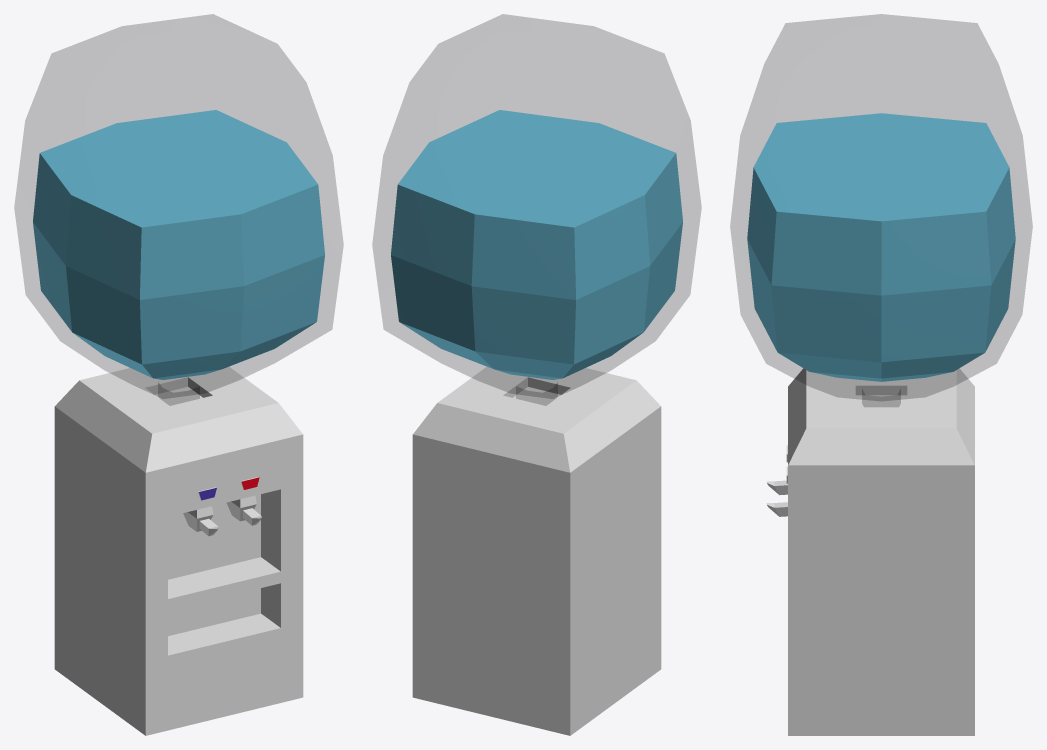
The model's file is AG_Bebedero.fbx.
3 views of the same model, side by side, from view 1: azimuth 30°, elevation 25°; view 2: azimuth 150°, elevation 25°; view 3: azimuth 270°, elevation 25° (orthographic). The views are drawn at different scales.
Visible parts, largest first — view 1: Bebedero; view 2: Bebedero; view 3: Bebedero.
Part boxes in pixels (box(x1,y1,x2,y2)): Bebedero: box(14, 14, 343, 735); Bebedero: box(372, 14, 701, 735); Bebedero: box(730, 14, 1032, 735).
Bounding box in the file's own units: 324 × 785 × 324.
